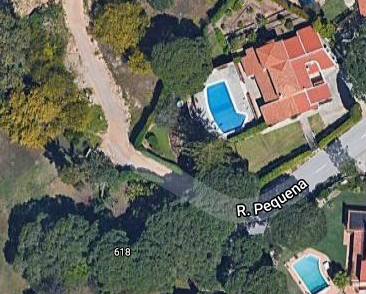pool: (205, 85, 240, 130), (290, 254, 327, 289)
